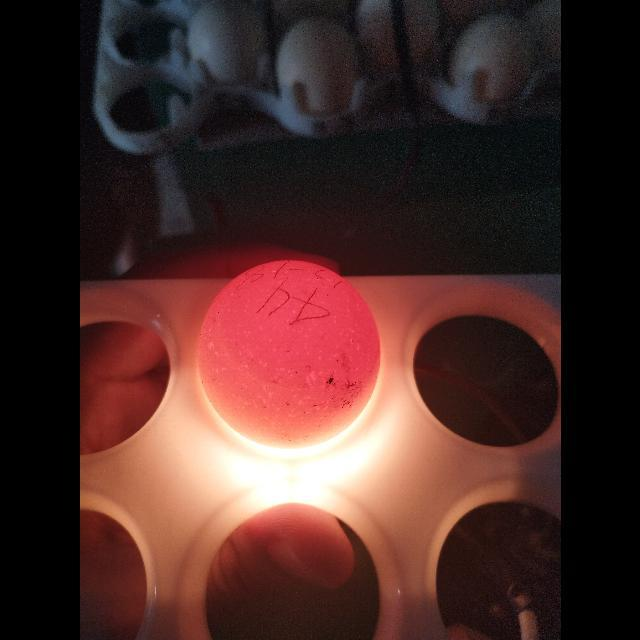Infertile: (193, 257, 383, 455)
